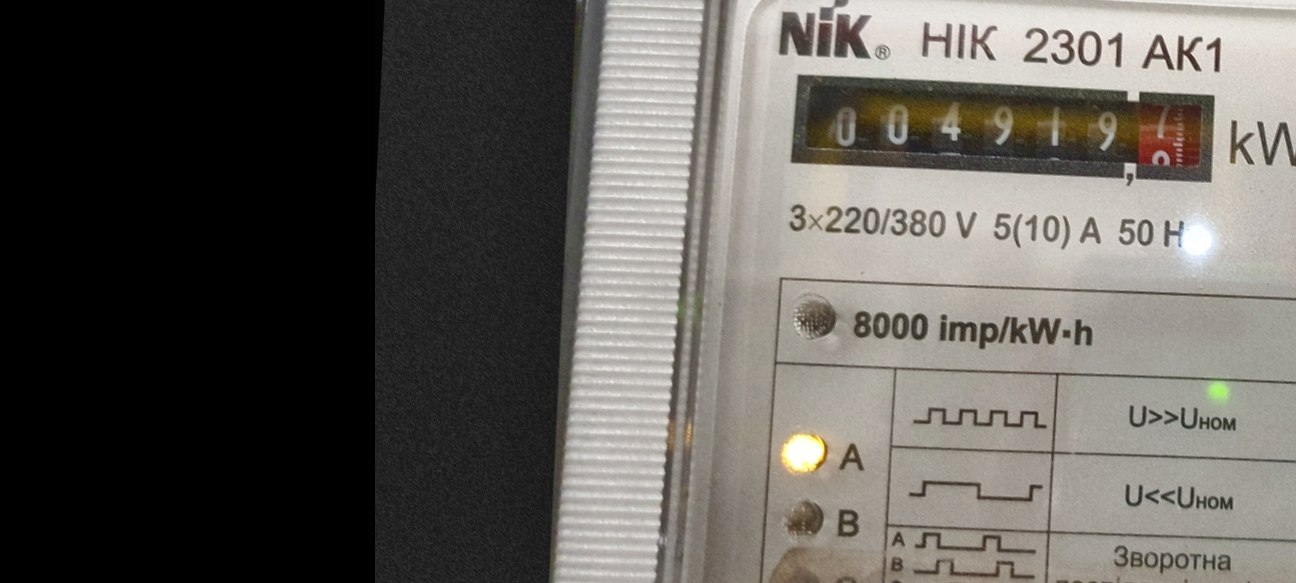0: (885, 101, 913, 147), (834, 103, 860, 148)
1: (1048, 103, 1065, 149)
4: (938, 98, 964, 142)
7: (1149, 101, 1174, 141)
9: (1095, 107, 1120, 155), (991, 104, 1017, 148)
screen: (780, 60, 1234, 201)
